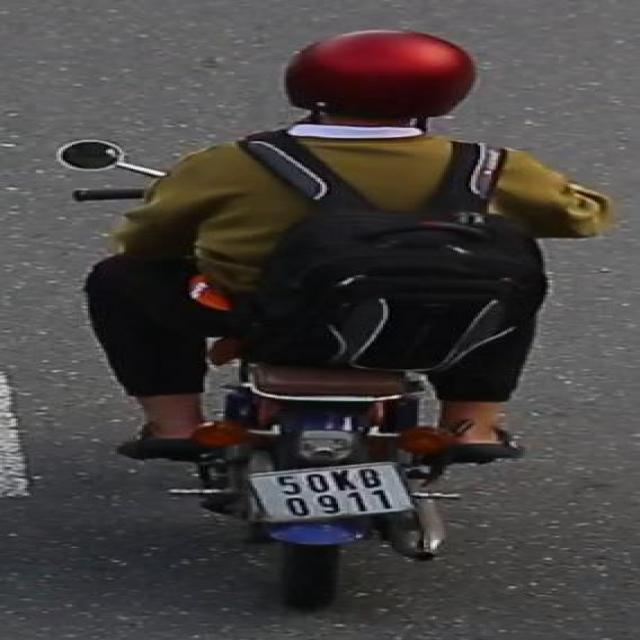LP: (245, 457, 412, 525)
helmet: (265, 23, 490, 143)
